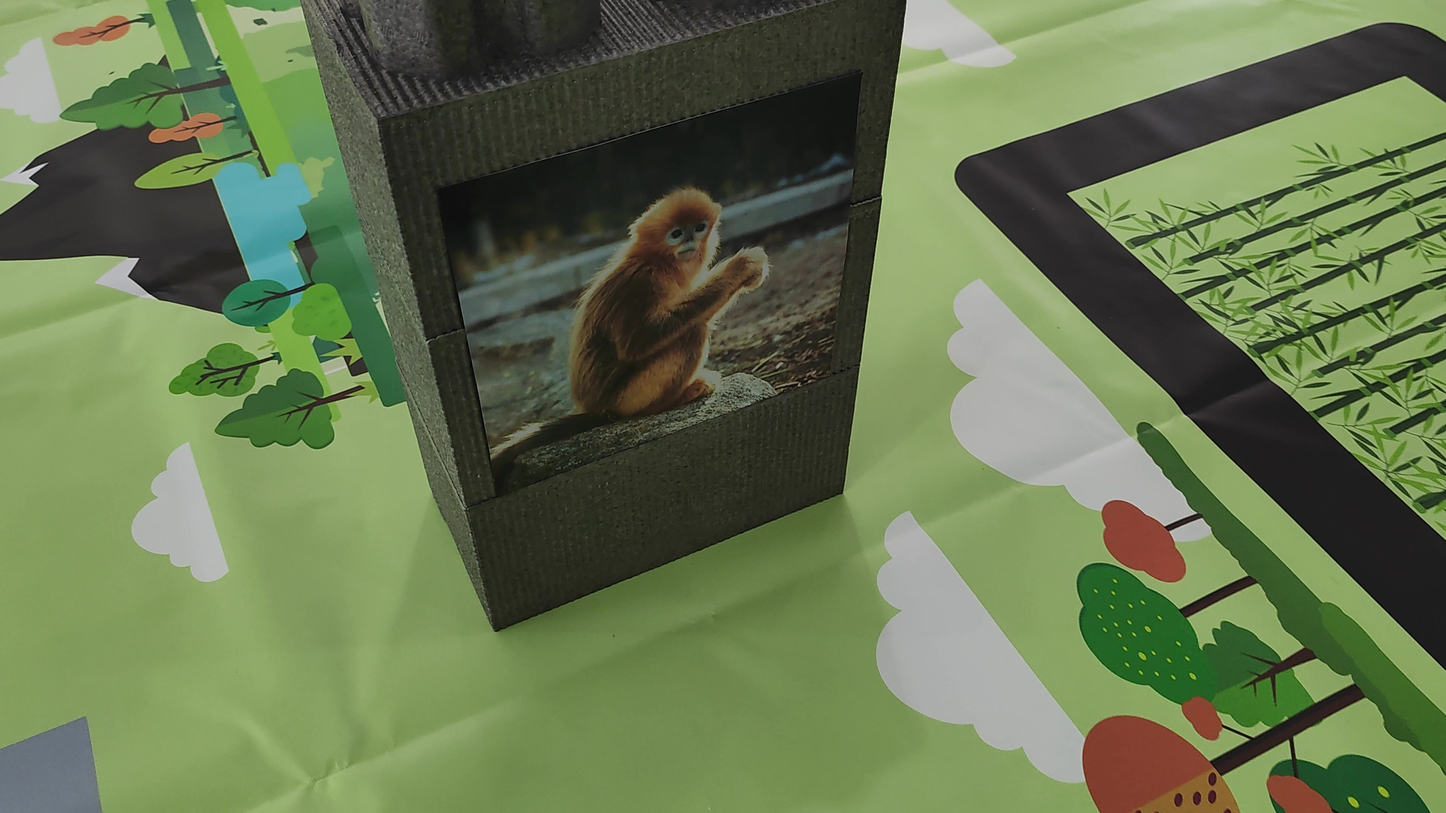monkey: (486, 177, 799, 481)
